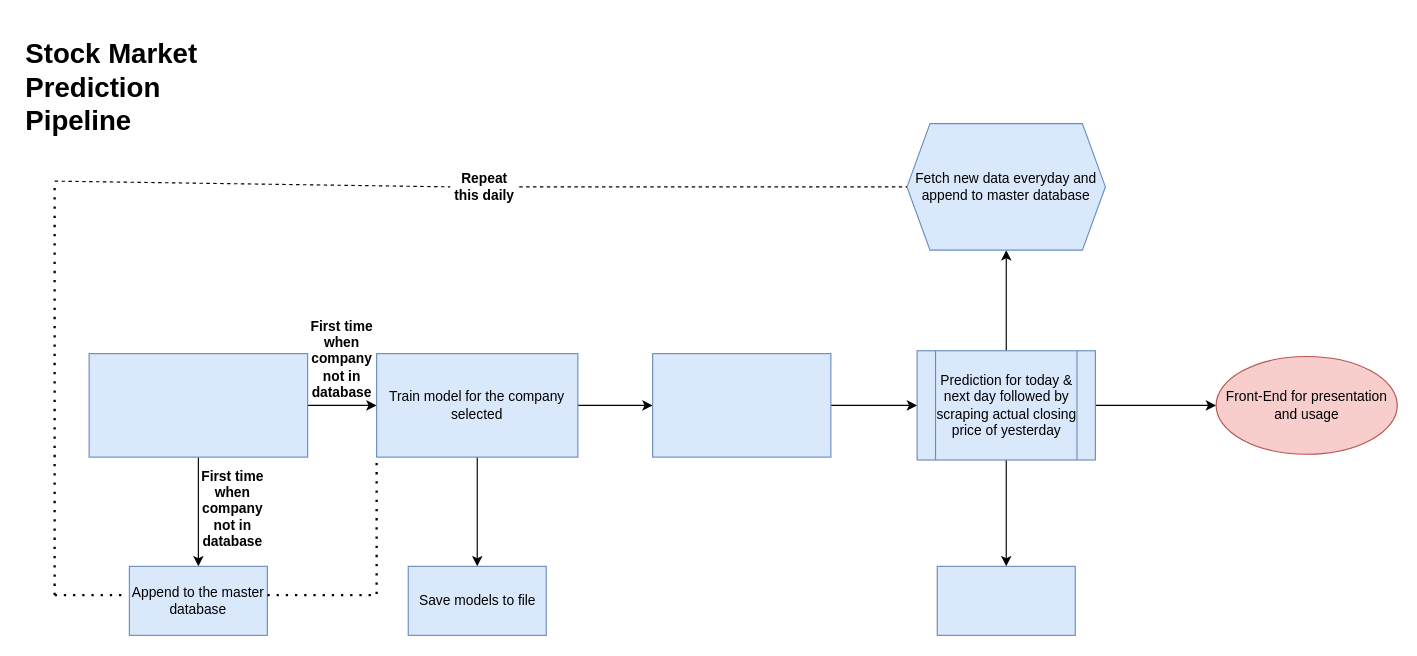
Some shapes in this 1417 by 656 pixel diagram are drawn without their labels. The box of each missing label's shape, as (x1, y1, x2, y2) in pixels:
A database to log predictions and actual closing prices: (936, 565, 1075, 635)
Data fetching for training as per company for n previous years: (88, 352, 308, 457)
From the companies in the master data a list of available companies for usage: (651, 352, 831, 457)
